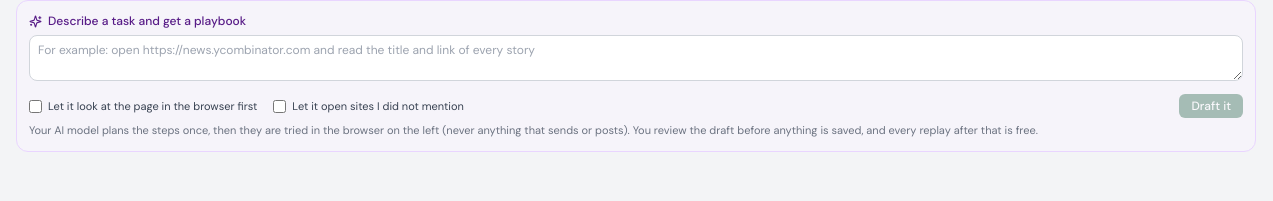
DescribeBox › says so when it was stopped
Type "open the list and read it" into the text box named "Describe the task" at (636, 58), box [29,35,1243,81]
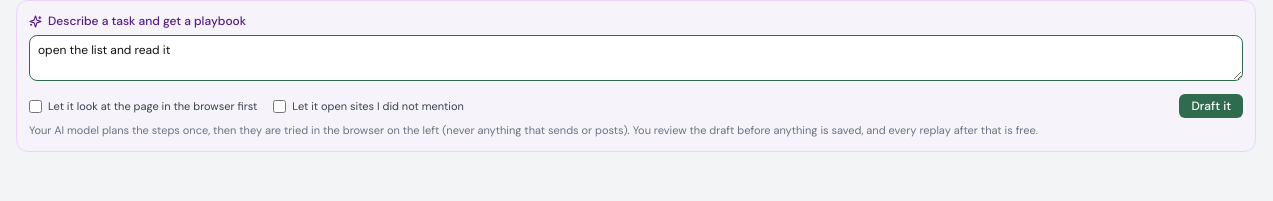
Click the button "Draft it" at (1211, 106), box [1179,94,1243,118]
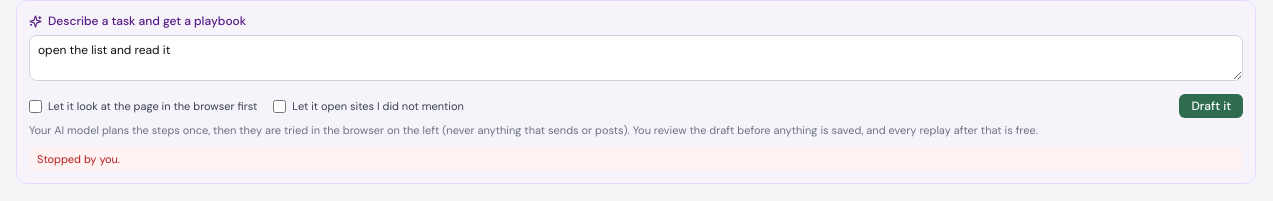
Check: the message reads "Stopped by you.", box [37,152,120,166]
